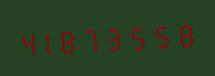eight: (61, 22, 82, 57), (171, 16, 192, 51)
five: (127, 18, 148, 53), (149, 17, 170, 52)
four: (17, 24, 38, 59)
one: (39, 23, 60, 58)
seven: (83, 21, 104, 56)
three: (105, 20, 126, 54)
